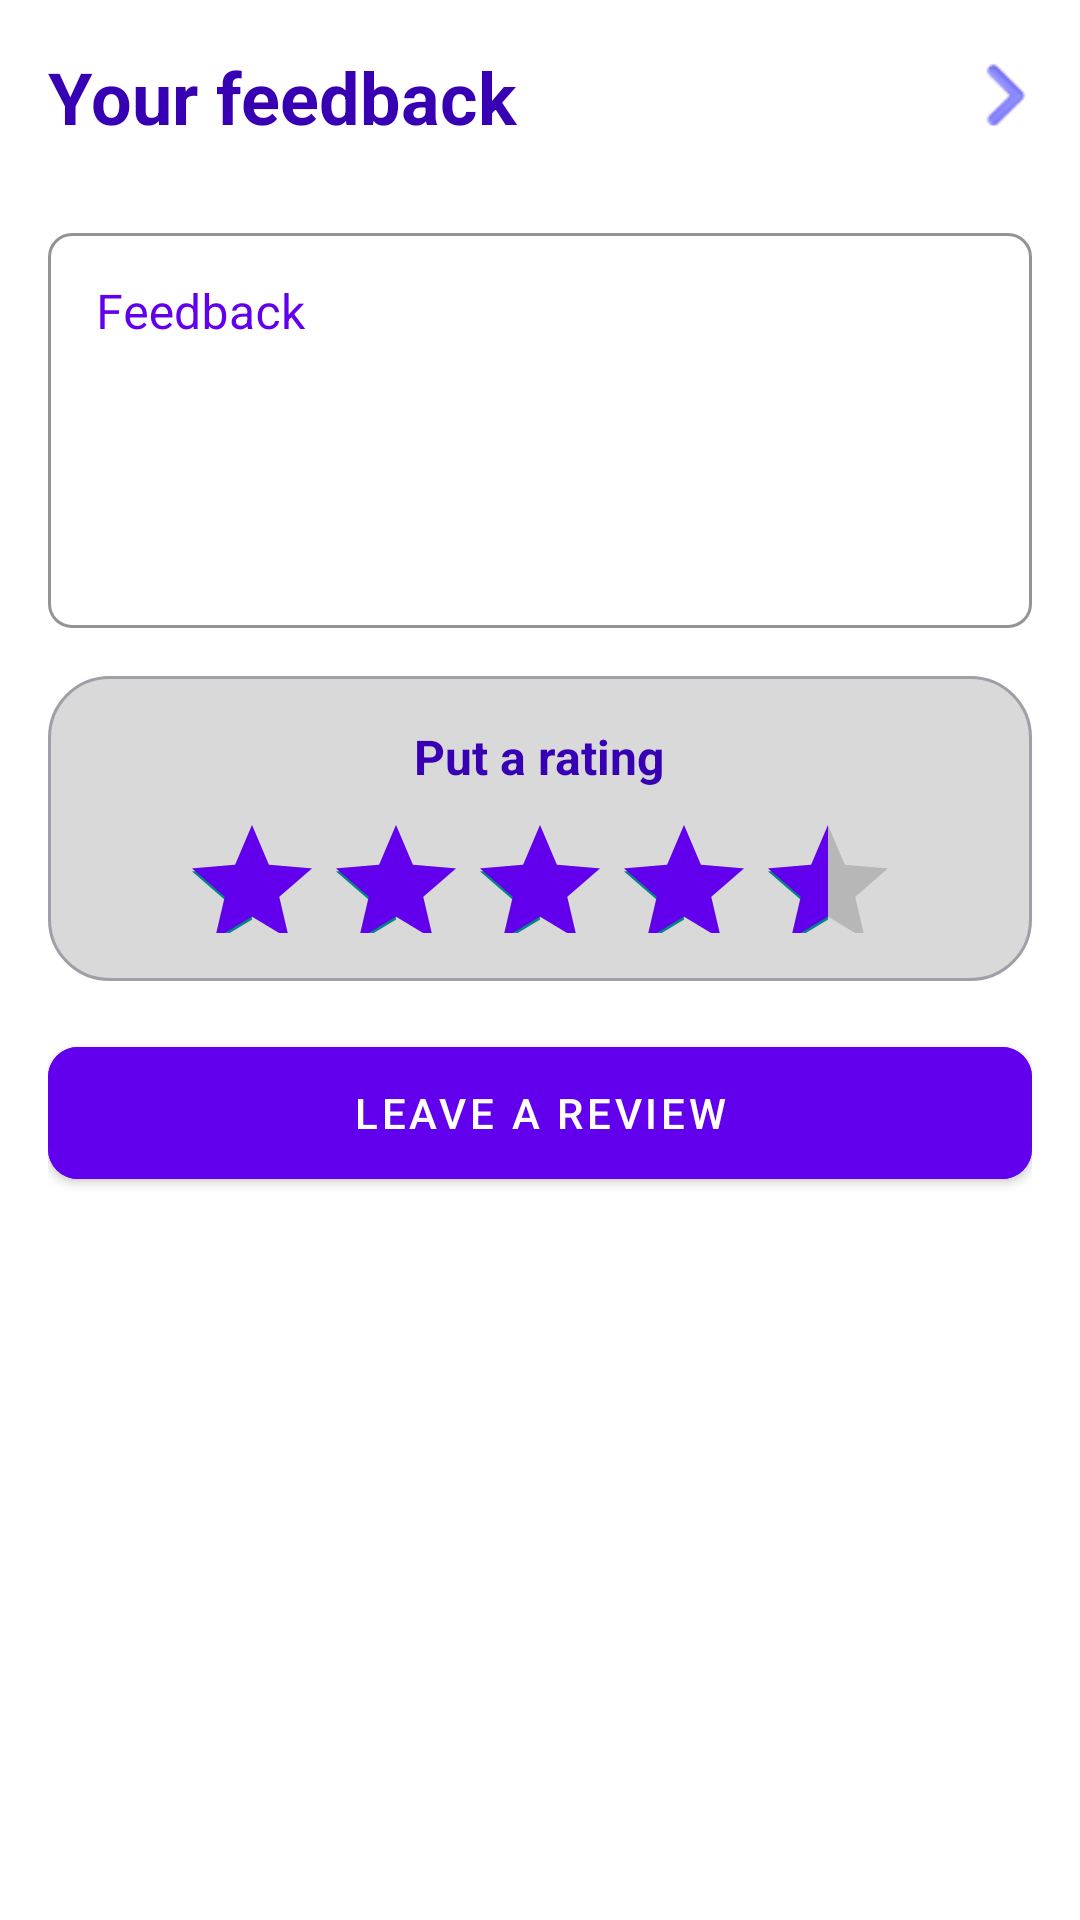

Named icons in this screenshot (1080px×1920px) and their bounding boxes, (x1, y1, x2, y2):
backs right: (987, 64, 1025, 126)
